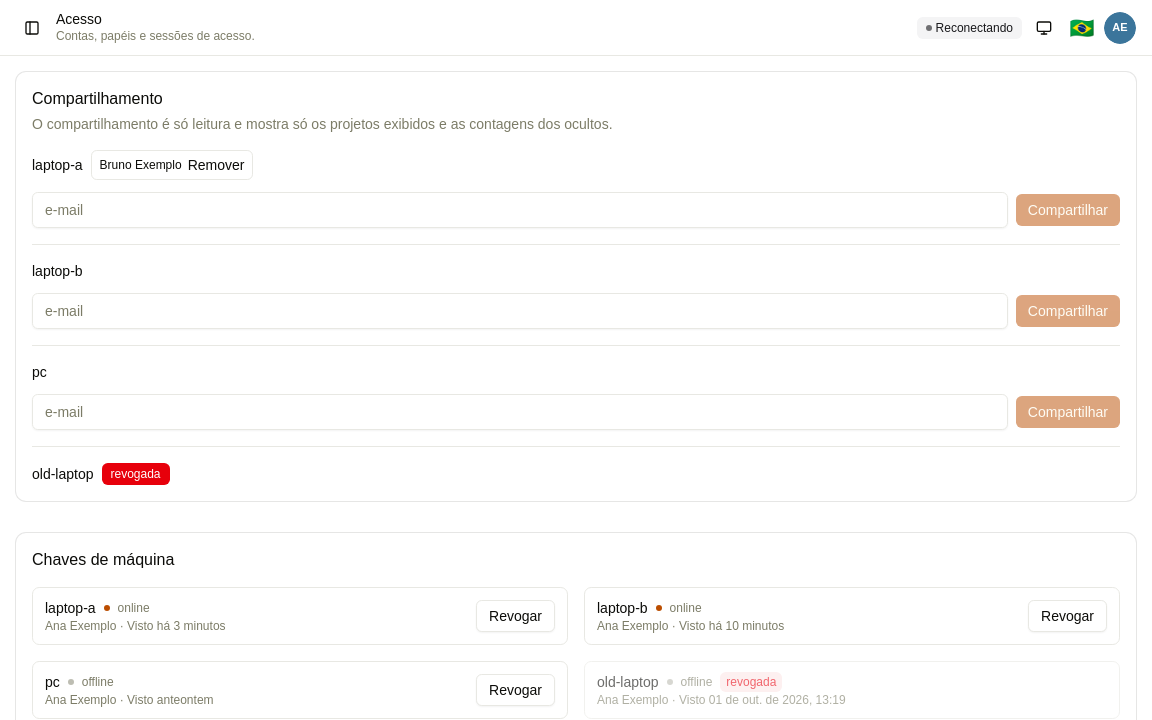
Scenario: access: sharing › shares a machine by e-mail and the new share shows up
The width and height of the screenshot is (1152, 720).
expect the heading "Compartilhamento" is shown: met, box [32, 90, 163, 107]
Compartilha laptop-b (que não tinha compartilhado) com o e-mail conhecido
In the field named "Compartilhar — laptop-b": (520, 311) [32, 293, 1008, 329], type "bruno@example.com"
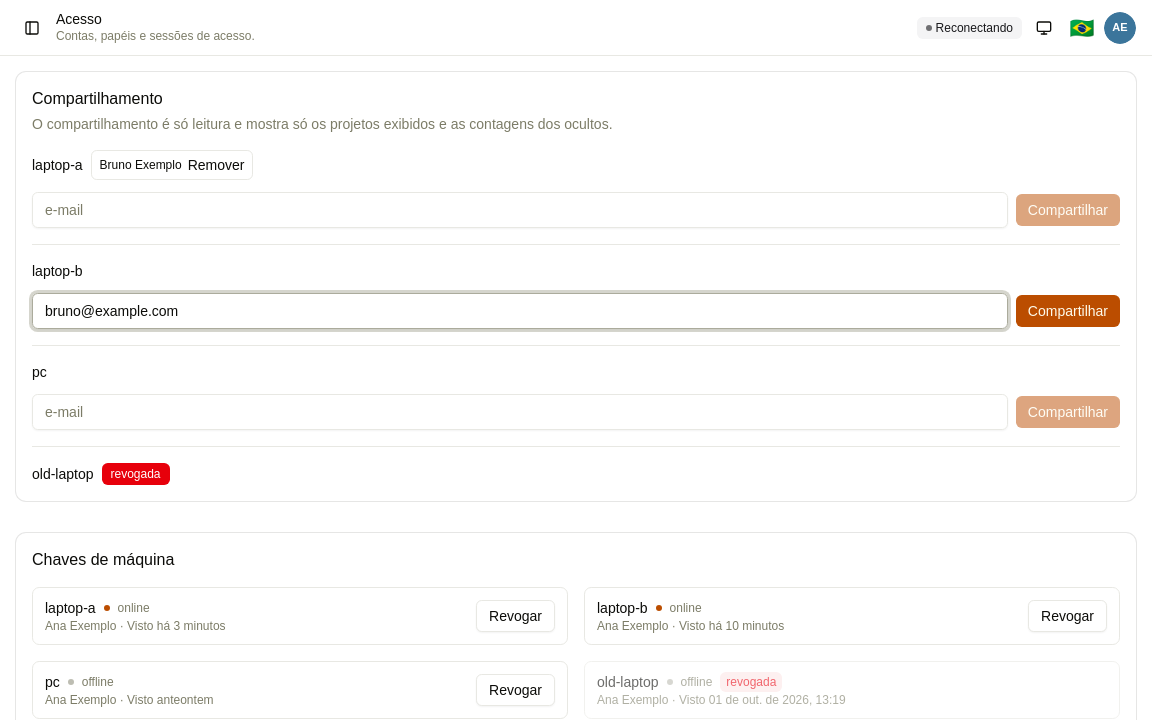
Click the 2nd button "Compartilhar": (1068, 311) [1016, 295, 1120, 327]
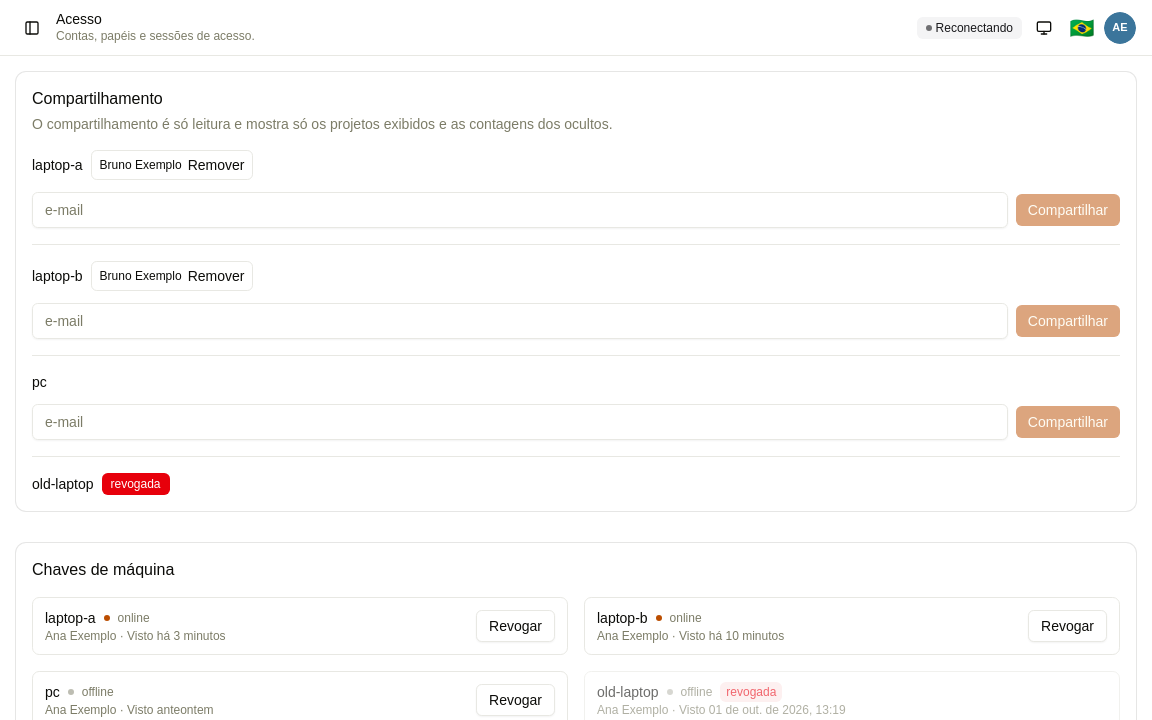
expect the 2nd text "Bruno Exemplo" is shown: met, box [100, 269, 182, 283]
